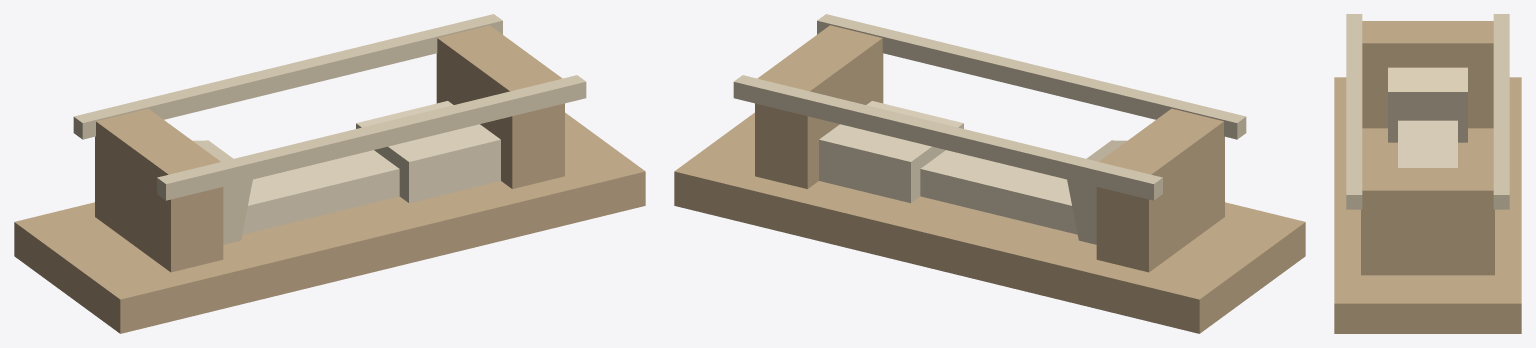
File: prop-spoon-clamp-jig.fbx
3 renders of one model, left to right at view 1: azimuth 30°, elevation 25°; view 2: azimuth 150°, elevation 25°; view 3: azimuth 270°, elevation 25°, orthographic. The views are drawn at different scales.
Parts seen in each view (by area): view 1: prop-spoon-clamp-jig; view 2: prop-spoon-clamp-jig; view 3: prop-spoon-clamp-jig.
Boxes of the visible parts, x1,y1,x2,y2 form: prop-spoon-clamp-jig: [14, 14, 645, 333]; prop-spoon-clamp-jig: [674, 14, 1305, 333]; prop-spoon-clamp-jig: [1334, 14, 1521, 333].
Bounding box in the file's own units: 40 × 9.6 × 14.
